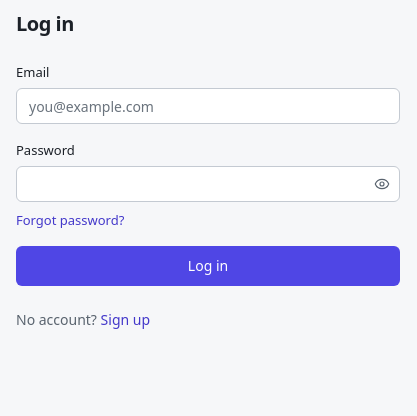
Test case: login › does not offer a resend for an ordinary failure
The width and height of the screenshot is (417, 416).
Type "a@b.com" into the field labelled "Email".
click(208, 106); type("a@b.com")  # box x1=16 y1=88 x2=400 y2=124
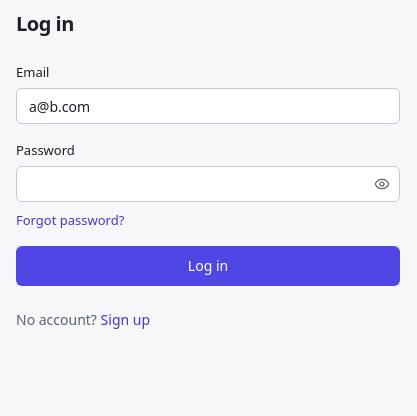
Type "password123" into the password field labelled "Password".
click(208, 184); type("password123")  # box x1=16 y1=166 x2=400 y2=202
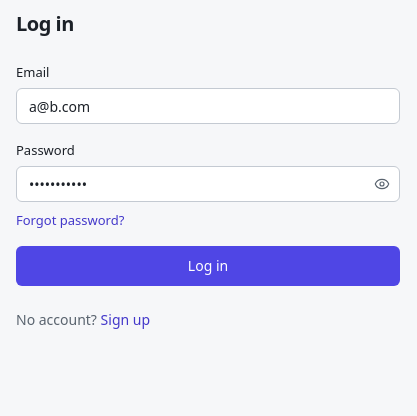
Click the button "Log in".
click(208, 266)  # box x1=16 y1=246 x2=400 y2=286
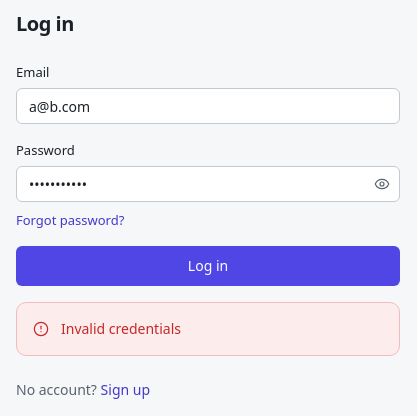
Expected: the message "Invalid credentials" is shown, x1=16 y1=302 x2=400 y2=356
